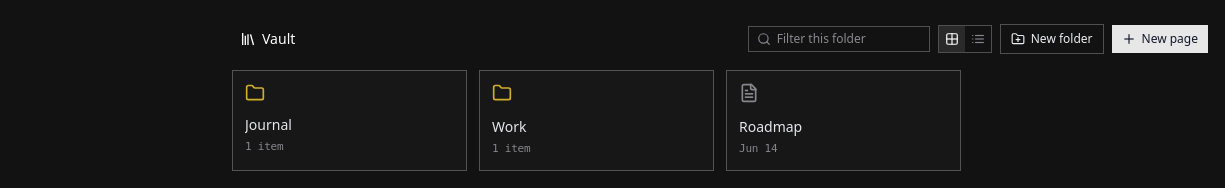
Test: VaultBrowserPane - right-click menu › greys out Move to Vault for something already at the root
The width and height of the screenshot is (1225, 188).
Right-click the element showing "Roadmap Jun 14": (844, 120) left=726, top=70, right=961, bottom=170
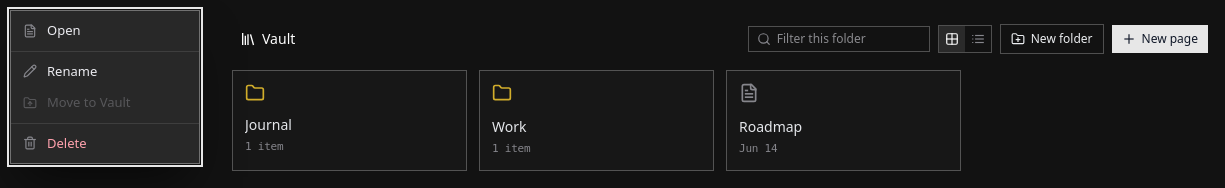
expect the menu item "Move to Vault" is disabled: met, box left=11, top=87, right=199, bottom=118
